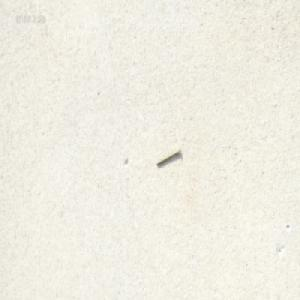Bolt: (155, 146, 180, 167)
